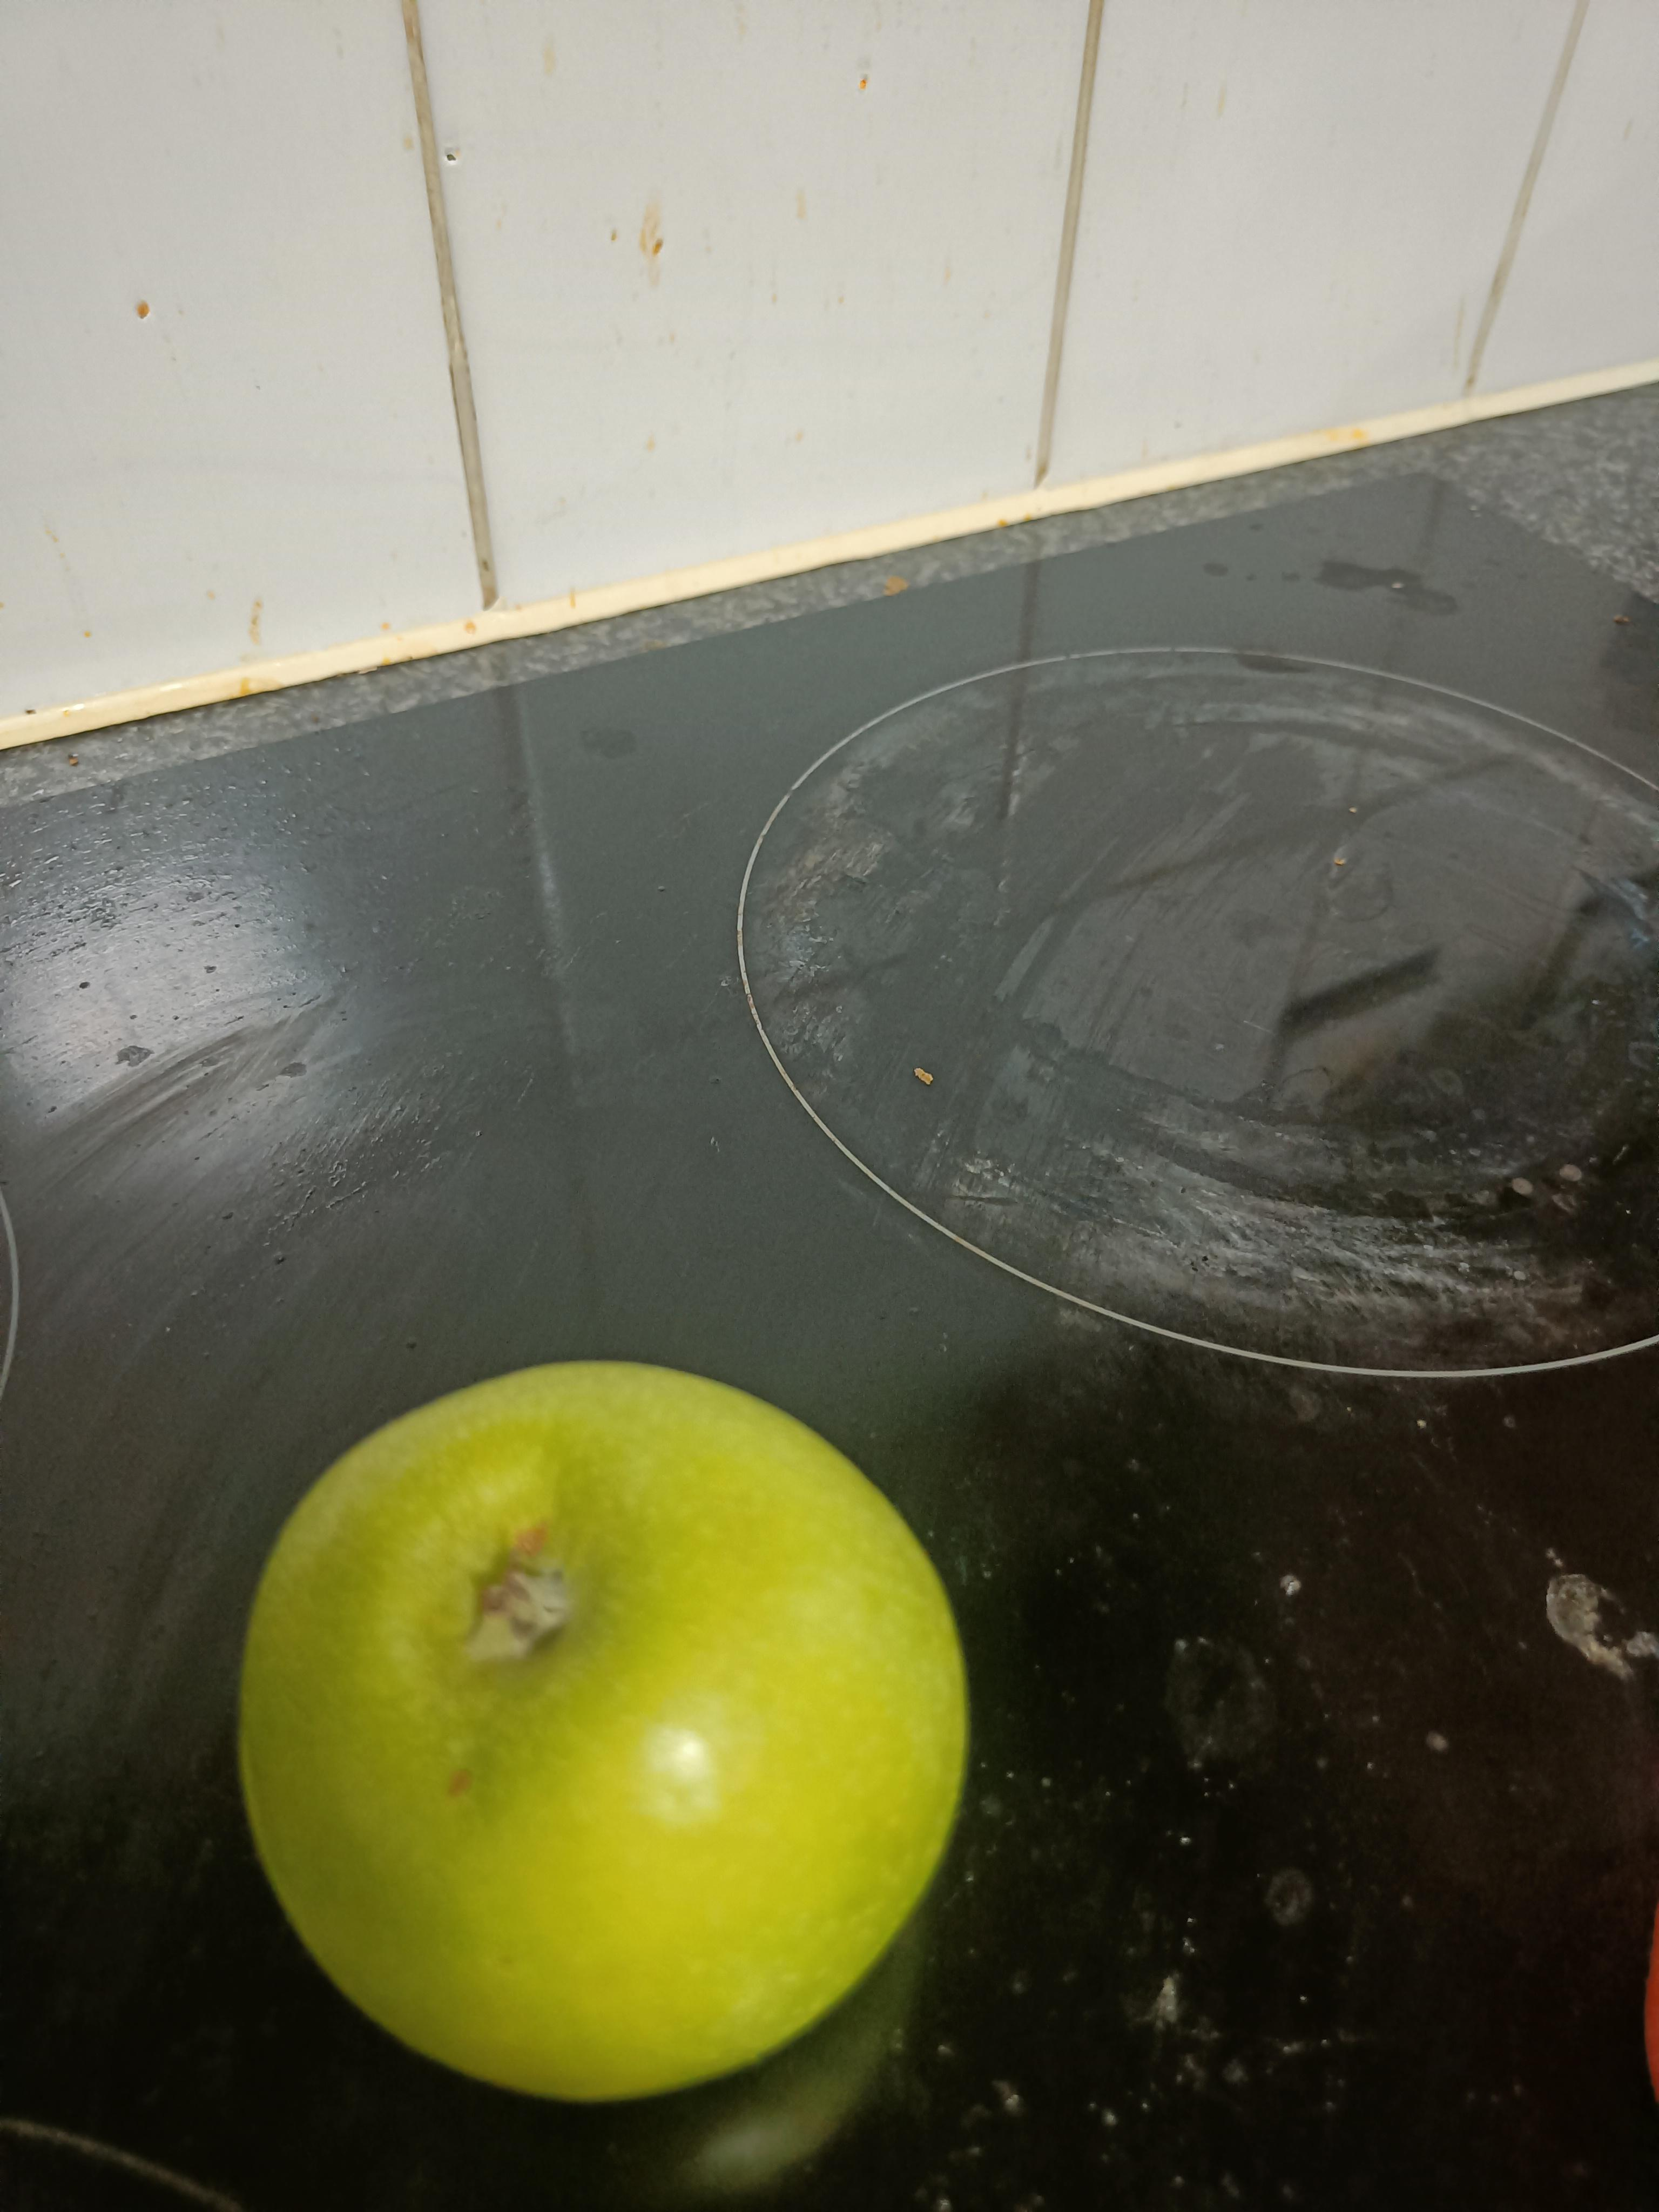Apple: (206, 1331, 988, 2123)
